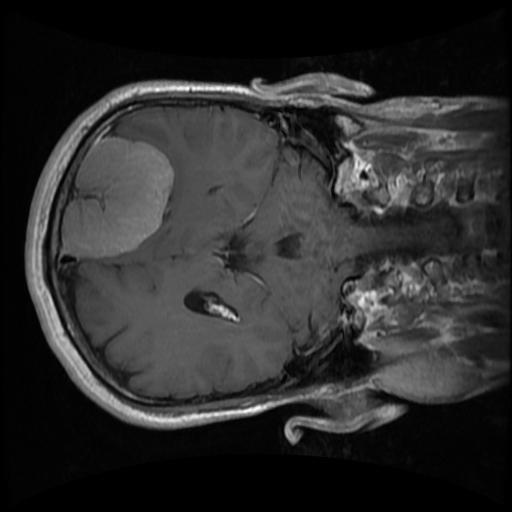meningioma: (59, 136, 174, 259)
